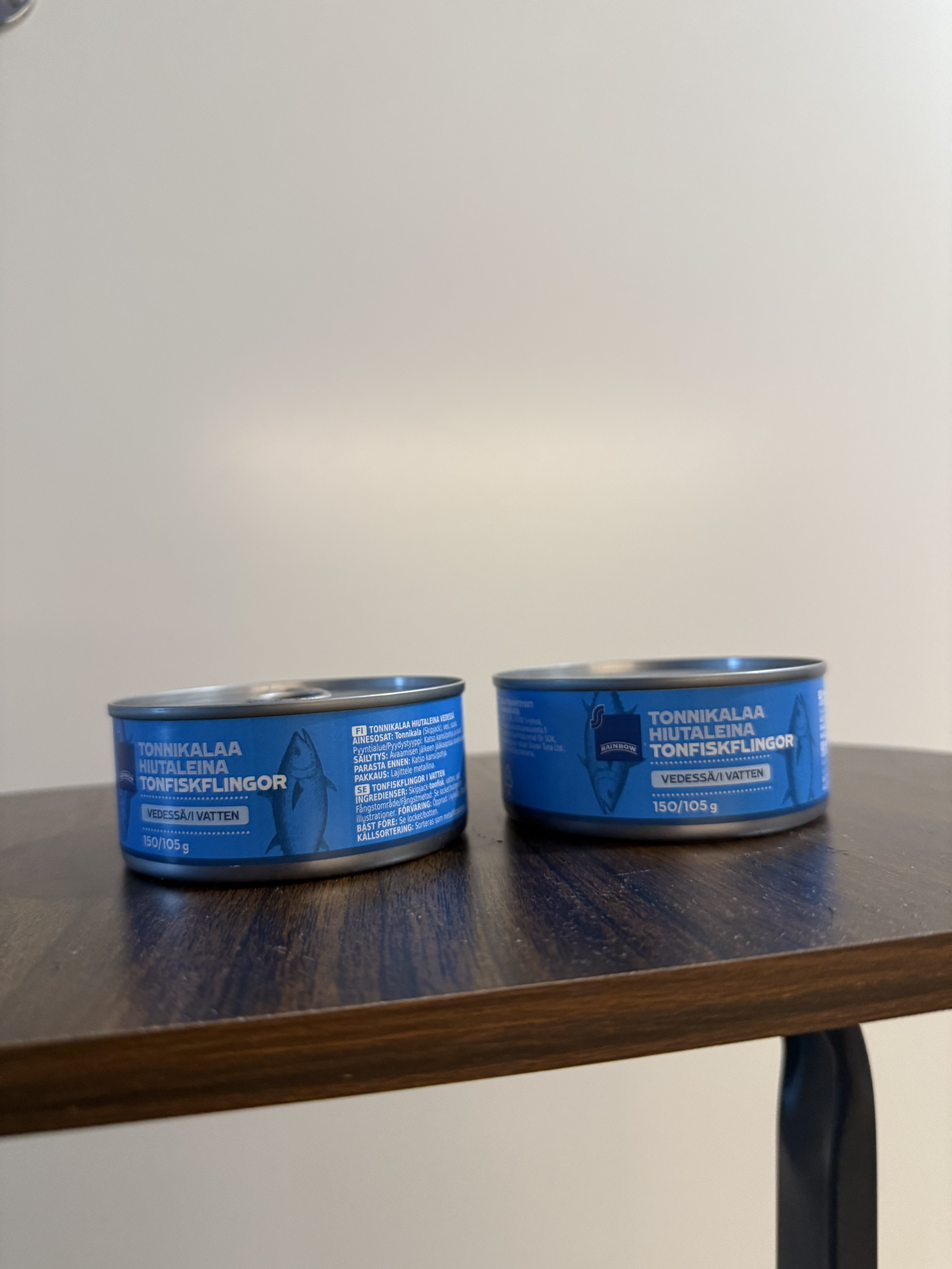Konservburk: (103, 677, 471, 862), (489, 656, 842, 832)
